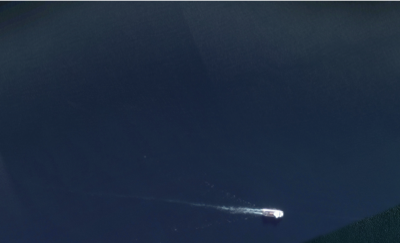boat: (260, 208, 285, 222)
